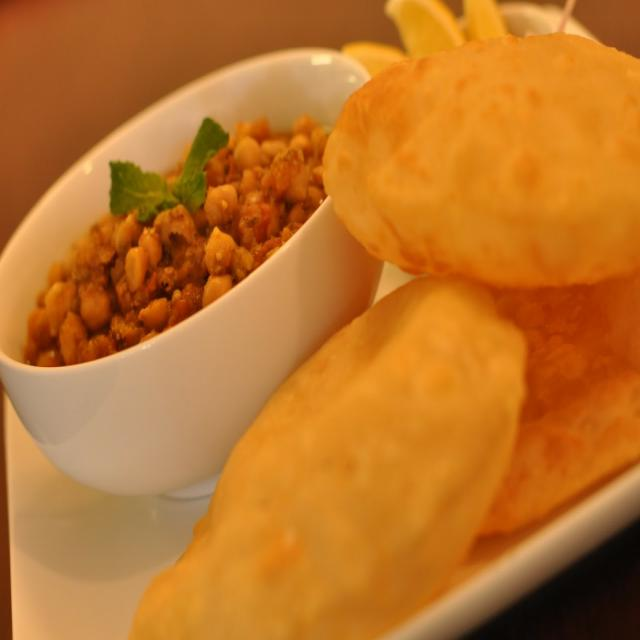Bhatura: (324, 35, 640, 536), (123, 272, 528, 640)
Chole: (18, 104, 326, 360)
